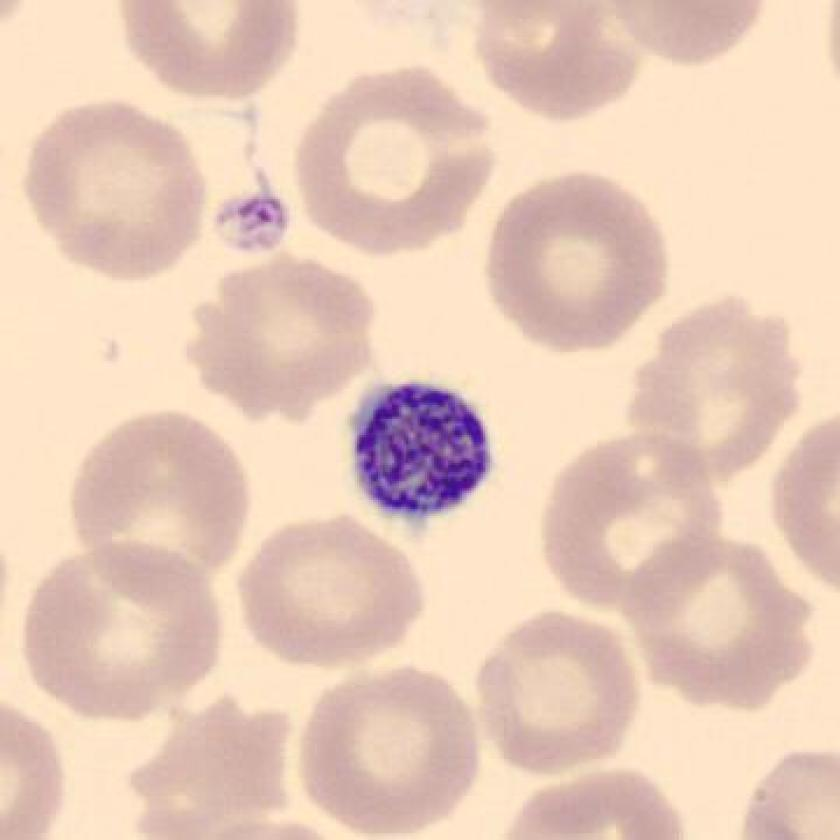platelets: (339, 369, 505, 533)
